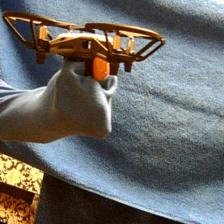drone: (1, 9, 166, 78)
